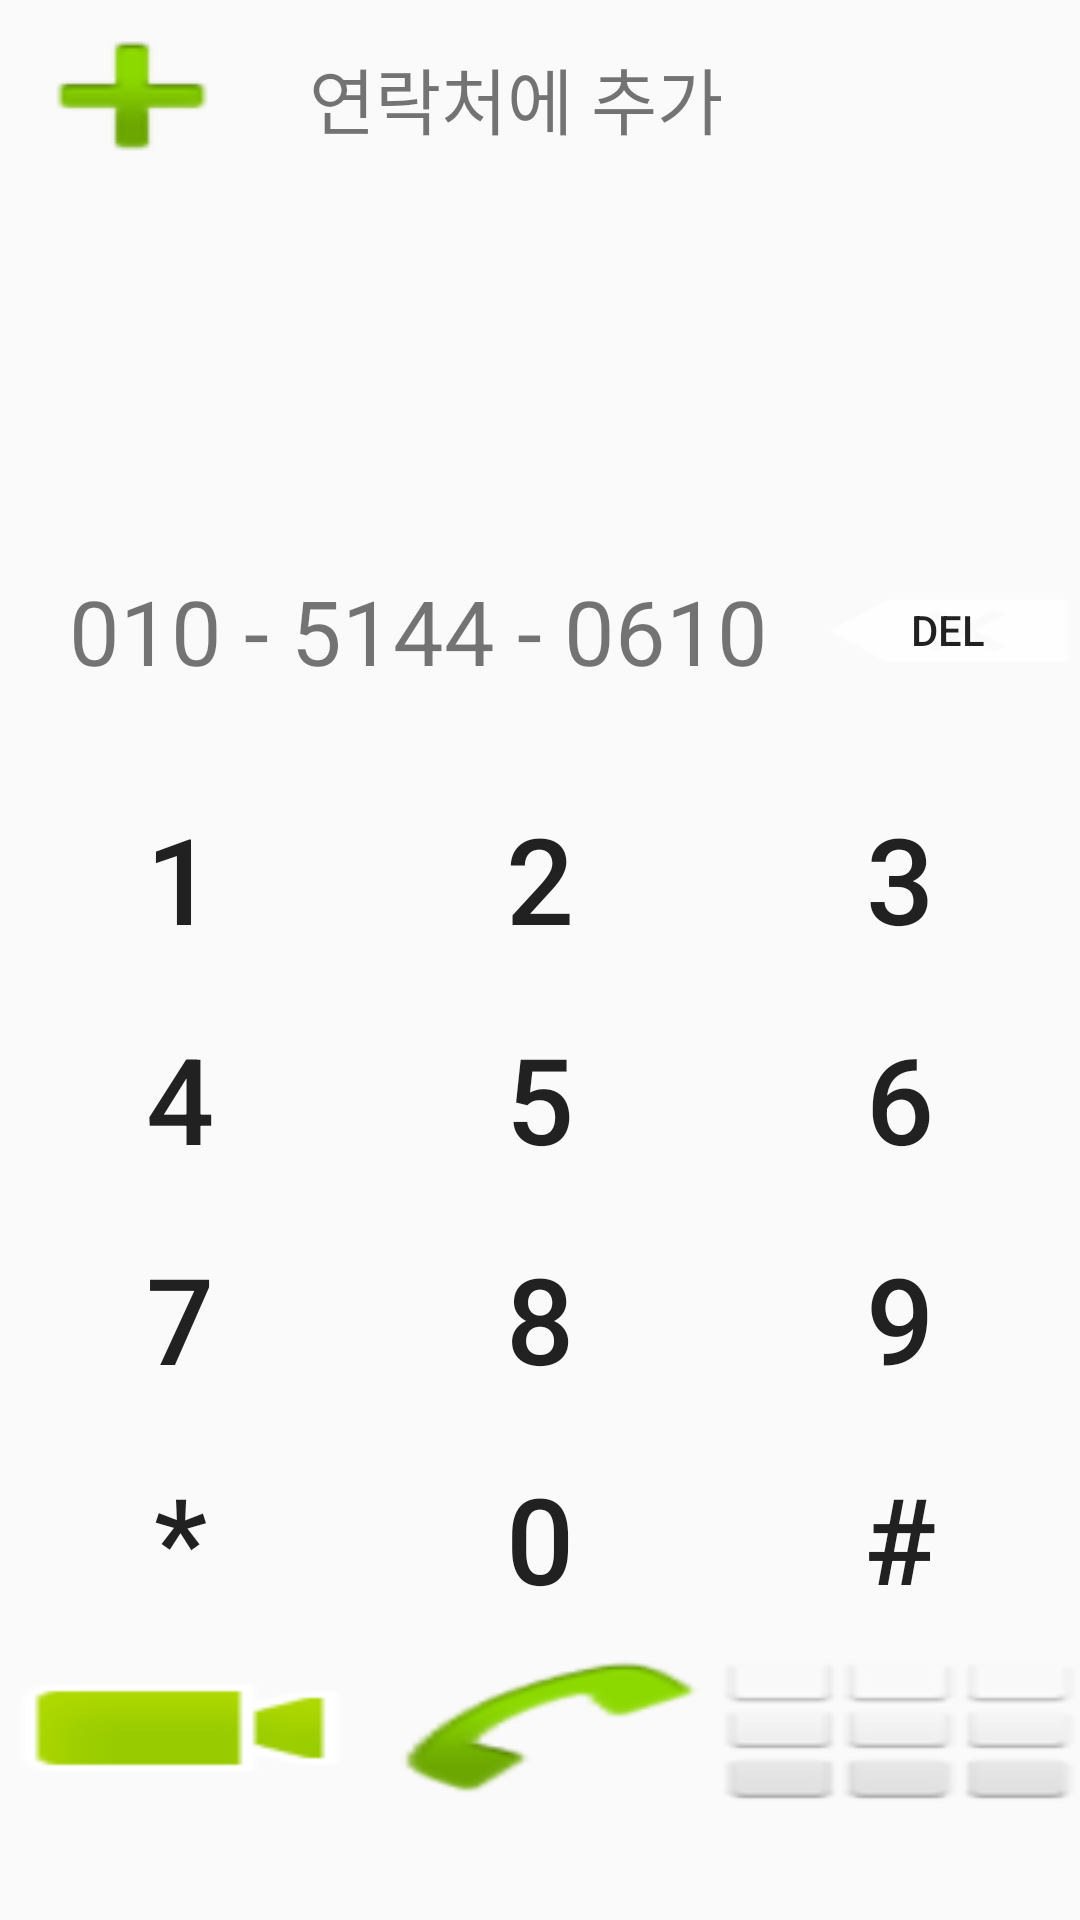

Icons on this 1080px×1920px Android screen, each with its box as (left=x1, top=y1, right=x2, bottom=y2):
add: (left=57, top=41, right=207, bottom=150)
presence video online: (left=35, top=1690, right=325, bottom=1766)
sym action call: (left=405, top=1662, right=695, bottom=1792)
